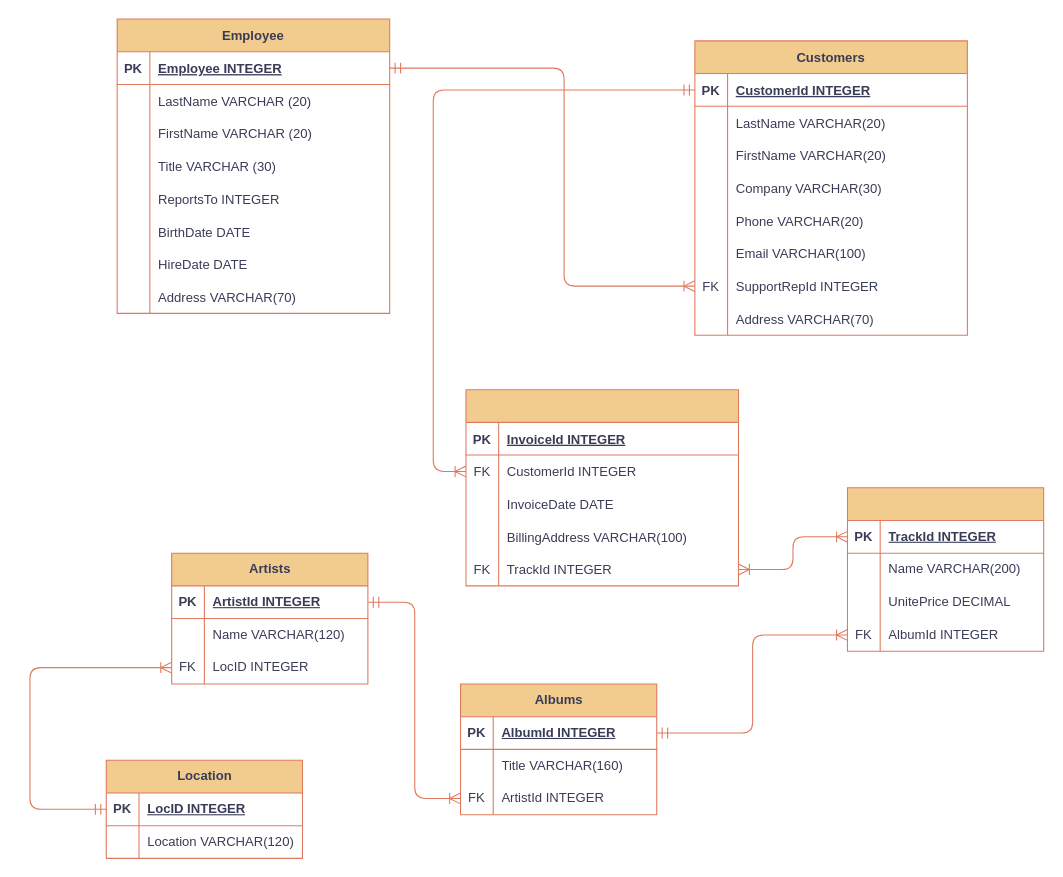
Some shapes in this 1063 by 877 pixel diagram are drawn without their labels. The shapes that lost their labels are listed below. From the top down, each one's box as (x1, y1, x2, y2) in pixels, then its label:
(465, 389, 738, 586): Invoices
(846, 487, 1044, 651): Tracks
